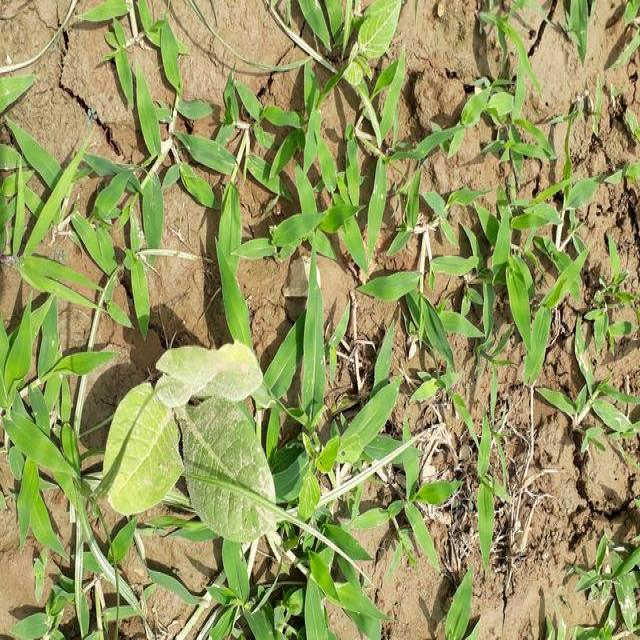crop: (95, 333, 280, 548)
